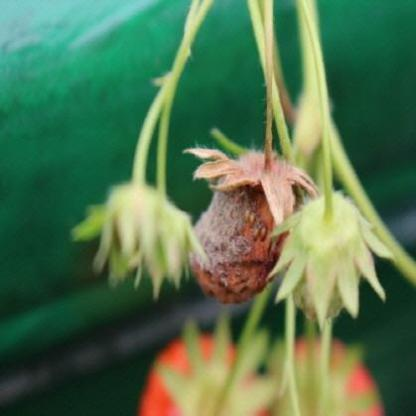Strawberry_Gray_Mold: (183, 121, 318, 304)
